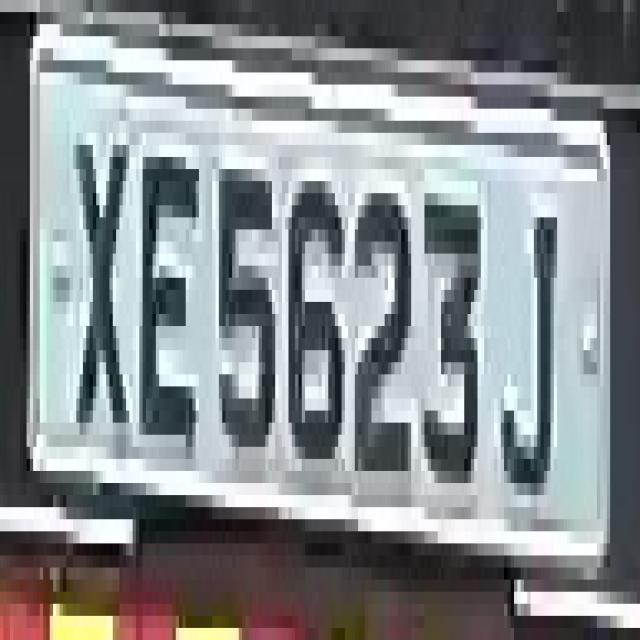2: (348, 133, 421, 495)
3: (415, 181, 484, 519)
5: (206, 133, 272, 471)
6: (282, 157, 351, 495)
E: (130, 133, 202, 471)
J: (494, 181, 561, 519)
X: (66, 84, 133, 459)
